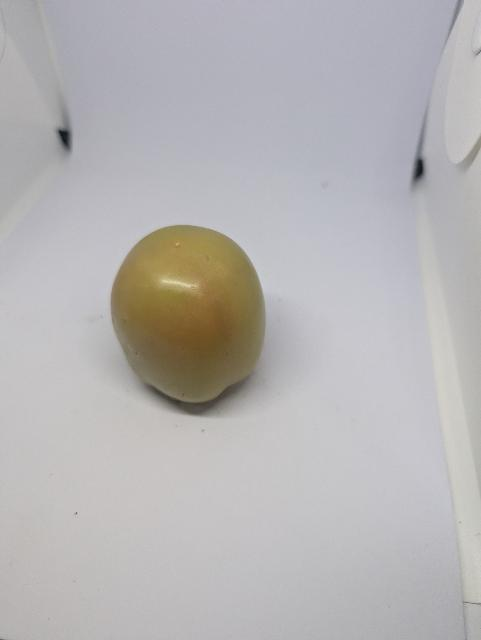breaker: (111, 225, 266, 402)
